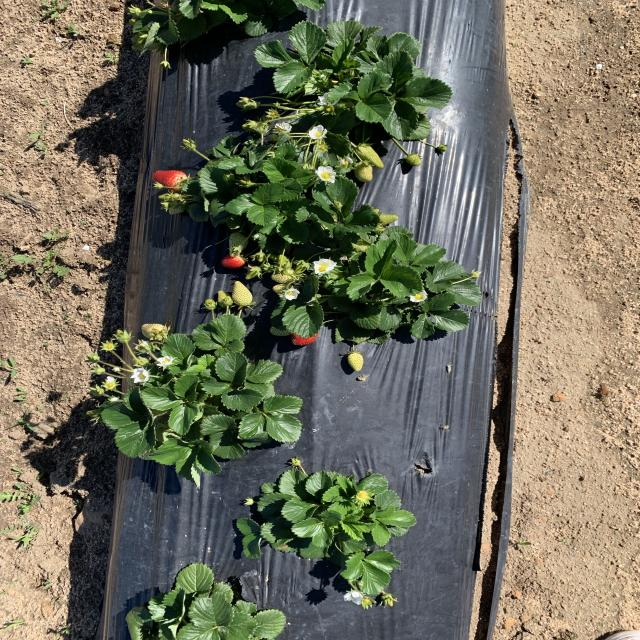unripe: (150, 168, 191, 192), (289, 325, 323, 347), (218, 252, 248, 271)
